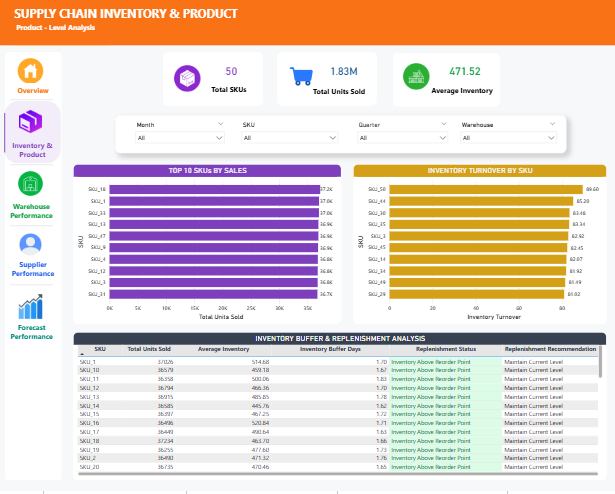

What the dashboard file says about the page in this screenshot:
{"tool":"powerbi","page":{"name":"Inventory & Product","canvas":[1400,1115],"ordinal":2},"visuals":[{"type":"shape","box":[0,0,1400,103.1],"z":0},{"type":"shape","box":[10.6,118.2,128.8,974.3],"z":1000},{"type":"image","box":[27.7,126.2,84.6,67.7],"z":2000},{"type":"textbox","box":[20,187.7,109.2,32.3],"z":3000},{"type":"shape","box":[23.1,210.8,98.5,30.8],"z":4000},{"type":"image","box":[27.7,243.1,83.1,66.2],"z":5000},{"type":"textbox","box":[16.9,313.8,115.4,60],"z":6000},{"type":"shape","box":[23.1,360,98.5,30.8],"z":7000},{"type":"image","box":[27.7,384.6,83.1,66.2],"z":8000},{"type":"textbox","box":[13.8,452.3,115.4,64.6],"z":9000},{"type":"shape","box":[23.1,498.5,98.5,30.8],"z":10000},{"type":"image","box":[27.7,523.1,83.1,66.2],"z":11000},{"type":"textbox","box":[15.4,584.6,118.5,61.5],"z":12000},{"type":"shape","box":[23.1,632.3,98.5,30.8],"z":13000},{"type":"image","box":[27,663.1,83.1,66.2],"z":14000},{"type":"textbox","box":[13.8,726.2,116.9,58.5],"z":15000},{"type":"textbox","box":[28.3,7.1,545.7,52.4],"z":16000},{"type":"textbox","box":[31.2,45.4,214,56.7],"z":17000},{"type":"shape","box":[369.9,119,226.8,123],"z":18000},{"type":"shape","box":[629.4,119,226.8,122],"z":19000},{"type":"shape","box":[893,119.4,243.4,122.5],"z":20000},{"type":"card","fields":{"Values":["FactInventory.Total SKUs"]},"box":[469.9,138.4,109.5,43.2],"z":21000},{"type":"card","fields":{"Values":["FactInventory.Total Units Sold"]},"box":[726.4,138.4,107.6,43.2],"z":22000},{"type":"card","fields":{"Values":["FactInventory.Average Inventory"]},"box":[1002.2,138.4,108.6,43.2],"z":23000},{"type":"textbox","box":[450.7,187.4,140.3,38.4],"z":24000},{"type":"textbox","box":[700.8,190.7,141.1,38.8],"z":25000},{"type":"textbox","box":[965.9,187.6,169,38.8],"z":26000},{"type":"shape","box":[262,260.5,1026.4,86.8],"z":27000},{"type":"slicer","fields":{"Values":["DimDate.MonthName"]},"box":[297.7,269.8,223.3,68.2],"z":28000},{"type":"slicer","fields":{"Values":["DimProduct.SKU_ID"]},"box":[538,269.8,240.3,68.2],"z":29000},{"type":"slicer","fields":{"Values":["DimDate.Quarter"]},"box":[801.6,269.8,226.4,68.2],"z":30000},{"type":"slicer","fields":{"Values":["DimWarehouse.Warehouse_ID"]},"box":[1037.2,269.8,238.8,68.2],"z":31000},{"type":"clusteredBarChart","title":"TOP 10 SKUs BY SALES","fields":{"Category":["DimProduct.SKU_ID"],"Y":["FactInventory.Total Units Sold"]},"box":[165.3,373.8,610.2,364.2],"z":32000},{"type":"clusteredBarChart","title":"INVENTORY TURNOVER BY SKU","fields":{"Category":["DimProduct.SKU_ID"],"Y":["FactInventory.Inventory Turnover"]},"box":[801.4,373.8,576.5,364.2],"z":33000},{"type":"tableEx","title":"INVENTORY BUFFER & REPLENISHMENT ANALYSIS","fields":{"Values":["DimProduct.SKU_ID","FactInventory.Total Units Sold","FactInventory.Average Inventory","FactInventory.Inventory Buffer Days","FactInventory.Replenishment Status","FactInventory.Replenishment Recommendation"]},"box":[165.3,755.3,1212.6,337.3],"z":34000},{"type":"image","box":[389.1,144.2,74.4,69.8],"z":35000},{"type":"image","box":[648.1,138,74.4,69.8],"z":36000},{"type":"image","box":[908.5,138,74.4,69.8],"z":37000},{"type":"shape","box":[10,229.4,129.4,142],"z":38000},{"type":"shape","box":[3.2,257.2,16.8,90],"z":39000}]}

Visuals, with their boxes in screenshot pixels (x1, y1, x2, y2), scaled from the page's 1400x1115 canvas onto the 615x494 screenshot:
shape: (x1=0, y1=0, x2=614, y2=46)
shape: (x1=5, y1=52, x2=61, y2=484)
image: (x1=12, y1=56, x2=49, y2=86)
textbox: (x1=9, y1=83, x2=57, y2=97)
shape: (x1=10, y1=93, x2=53, y2=107)
image: (x1=12, y1=108, x2=49, y2=137)
textbox: (x1=7, y1=139, x2=58, y2=166)
shape: (x1=10, y1=159, x2=53, y2=173)
image: (x1=12, y1=170, x2=49, y2=200)
textbox: (x1=6, y1=200, x2=57, y2=229)
shape: (x1=10, y1=221, x2=53, y2=235)
image: (x1=12, y1=232, x2=49, y2=261)
textbox: (x1=7, y1=259, x2=59, y2=286)
shape: (x1=10, y1=280, x2=53, y2=294)
image: (x1=12, y1=294, x2=48, y2=323)
textbox: (x1=6, y1=322, x2=57, y2=348)
textbox: (x1=12, y1=3, x2=252, y2=26)
textbox: (x1=14, y1=20, x2=108, y2=45)
shape: (x1=162, y1=53, x2=262, y2=107)
shape: (x1=276, y1=53, x2=376, y2=107)
shape: (x1=392, y1=53, x2=499, y2=107)
card - FactInventory.Total SKUs: (x1=206, y1=61, x2=255, y2=80)
card - FactInventory.Total Units Sold: (x1=319, y1=61, x2=366, y2=80)
card - FactInventory.Average Inventory: (x1=440, y1=61, x2=488, y2=80)
textbox: (x1=198, y1=83, x2=260, y2=100)
textbox: (x1=308, y1=84, x2=370, y2=102)
textbox: (x1=424, y1=83, x2=499, y2=100)
shape: (x1=115, y1=115, x2=566, y2=154)
slicer - DimDate.MonthName: (x1=131, y1=120, x2=229, y2=150)
slicer - DimProduct.SKU_ID: (x1=236, y1=120, x2=342, y2=150)
slicer - DimDate.Quarter: (x1=352, y1=120, x2=452, y2=150)
slicer - DimWarehouse.Warehouse_ID: (x1=456, y1=120, x2=561, y2=150)
"TOP 10 SKUs BY SALES" clusteredBarChart: (x1=73, y1=166, x2=341, y2=327)
"INVENTORY TURNOVER BY SKU" clusteredBarChart: (x1=352, y1=166, x2=605, y2=327)
"INVENTORY BUFFER & REPLENISHMENT ANALYSIS" tableEx: (x1=73, y1=335, x2=605, y2=484)
image: (x1=171, y1=64, x2=204, y2=95)
image: (x1=285, y1=61, x2=317, y2=92)
image: (x1=399, y1=61, x2=432, y2=92)
shape: (x1=4, y1=102, x2=61, y2=165)
shape: (x1=1, y1=114, x2=9, y2=154)
